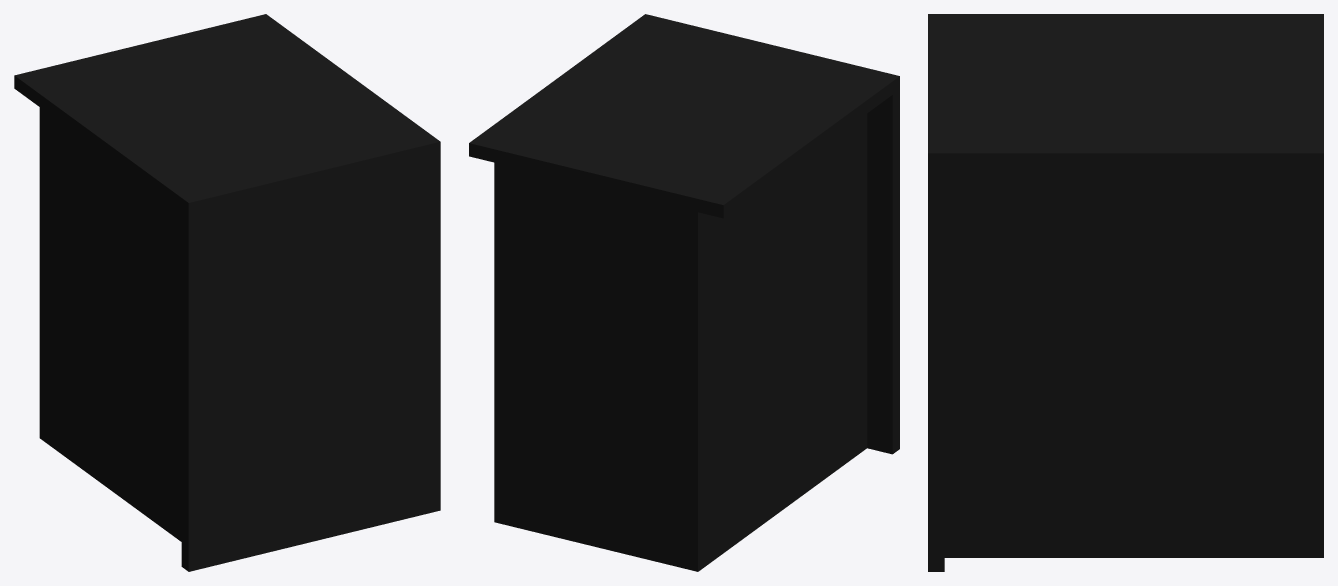
Rendered from dc_metro_led_pids.obj.
3 views of the same model, side by side, from view 1: azimuth 30°, elevation 25°; view 2: azimuth 150°, elevation 25°; view 3: azimuth 270°, elevation 25° (orthographic). The views are drawn at different scales.
Parts seen in each view (by area): view 1: cube; view 2: cube; view 3: cube.
Part boxes in pixels (x1,y1,x2,y2): cube: (14, 14, 440, 571); cube: (469, 14, 899, 571); cube: (928, 14, 1323, 571).
Size of the model in its own units: 0.625 by 0.875 by 0.75.
1 material, 1 textured.
